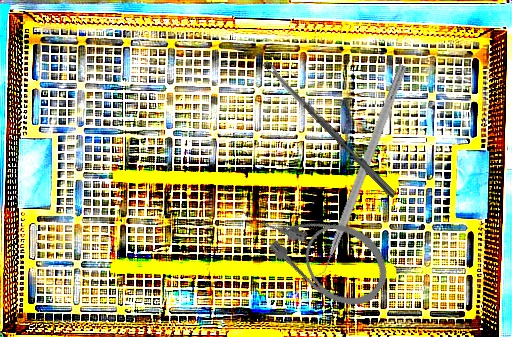Cannula: (247, 182, 402, 321)
Chopper: (303, 59, 408, 287)
Surgical Spoon: (262, 59, 398, 199)
